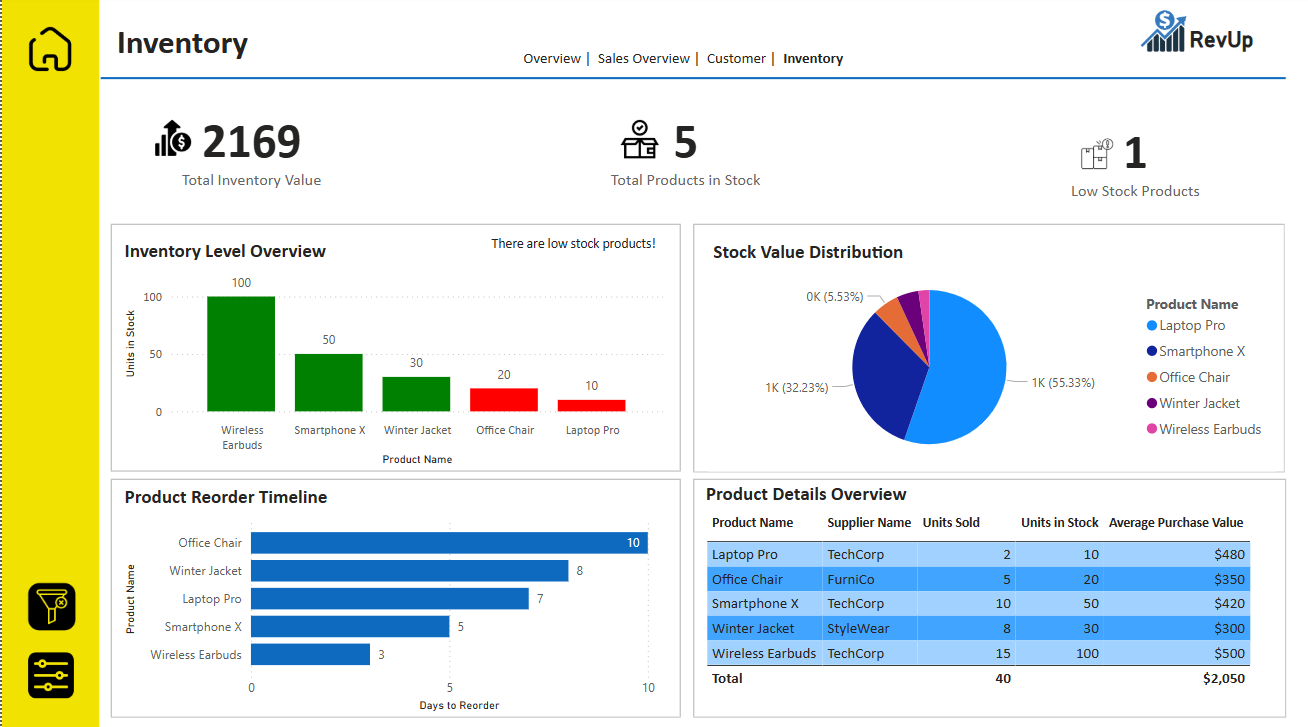

What the dashboard file says about the page in this screenshot:
{"tool":"powerbi","page":{"name":"Inventory","canvas":[1280,720],"ordinal":4},"visuals":[{"type":"shape","box":[0,0,95.4,720.2],"z":0},{"type":"image","box":[1004.3,0,264.1,70.9],"z":0,"group":"g1"},{"type":"textbox","box":[1157.2,25.7,99,45.2],"z":1000,"group":"g1"},{"type":"image","box":[129.9,121.2,95.2,55.4],"z":1000},{"type":"textbox","box":[107.4,22.5,176.6,58.9],"z":2000,"group":"g1"},{"type":"image","box":[19,559.3,58.9,79.7],"z":2000},{"type":"image","box":[20.9,23.7,52.9,58.4],"z":3000},{"type":"textbox","box":[505,47.3,340.9,34.8],"z":4000},{"type":"card","fields":{"Values":["Inventory Data.Total Inventory Value"]},"box":[129,93.5,232,110.8],"z":4000,"group":"g1"},{"type":"image","box":[18.1,638.6,58.4,54.3],"z":4125},{"type":"shape","box":[495.3,27.8,79.3,50.1],"z":4250},{"type":"shape","box":[574.6,27.8,101.6,50.1],"z":4500},{"type":"shape","box":[676.2,27.8,79.3,50.1],"z":6000},{"type":"card","fields":{"Values":["Inventory Data.Total Products in Stock"]},"box":[557.4,93.5,225.1,110.8],"z":6000,"group":"g1"},{"type":"group","id":"g1","title":"Visuals","box":[97,0,1171.5,706.8],"z":7000},{"type":"card","fields":{"Values":["Inventory Data.Low Stock product Count"]},"box":[992.8,103.9,232,110.8],"z":7000,"group":"g1"},{"type":"shape","box":[97,58.7,1159.2,45.2],"z":9500,"group":"g1"},{"type":"columnChart","title":"Inventory Level Overview ","fields":{"Y":["Sum(Inventory Data.Units in Stock)"],"Category":["Inventory Data.Product Name"]},"box":[115.8,239,536.8,226.8],"z":12000,"group":"g1"},{"type":"shape","box":[107.1,223.4,557.6,242.4],"z":13000,"group":"g1"},{"type":"shape","box":[676.9,224,578.8,243.5],"z":14000,"group":"g1"},{"type":"pieChart","title":"Stock Value Distribution","fields":{"Category":["Inventory Data.Product Name"],"Y":["Sum(Inventory Data.Selling Price)"]},"box":[690.8,239.3,555.1,226.8],"z":15000,"group":"g1"},{"type":"barChart","title":"Product Reorder Timeline","fields":{"Category":["Inventory Data.Product Name"],"Y":["Sum(Inventory Data.Days to Reorder)"]},"box":[115.8,479.7,548.9,226.8],"z":16000,"group":"g1"},{"type":"shape","box":[107.1,472.7,557.6,233.8],"z":17000,"group":"g1"},{"type":"pieChart","title":"Sales by Region","fields":{"Y":["Sum(Sales Data.Total Sales)"],"Category":["Customer Data.Region"]},"box":[690.8,477.2,567.7,226.8],"z":18000,"group":"g1"},{"type":"tableEx","title":"Product Details Overview","fields":{"Values":["Inventory Data.Product Name","Inventory Data.Supplier Name","Sum(Sales Data.Units Sold)","Inventory Data.Units in Stock","Sum(Customer Data.Average Purchase Value)"]},"box":[684,477.2,567.7,226.8],"z":18500,"group":"g1"},{"type":"image","box":[142.3,117.4,51.4,45.2],"z":18750,"group":"g1"},{"type":"image","box":[596,117.4,57.5,47.7],"z":18875,"group":"g1"},{"type":"image","box":[1044.7,134.5,53.8,41.6],"z":18937,"group":"g1"},{"type":"card","fields":{"Values":["Inventory Data.LowStockMessage"]},"box":[424.3,223.4,270.1,41.6],"z":18968,"group":"g1"},{"type":"shape","box":[676.9,473,580.2,233.7],"z":19000,"group":"g1"}]}

Visuals, with their boxes in screenshot pixels (x1, y1, x2, y2), scaled from the page's 1280x720 canvas onto the 1308x727 screenshot:
shape: Rect(0, 0, 97, 726)
image: Rect(1026, 0, 1296, 72)
textbox: Rect(1183, 26, 1284, 72)
image: Rect(133, 122, 230, 178)
textbox: Rect(110, 23, 290, 82)
image: Rect(19, 565, 80, 645)
image: Rect(21, 24, 75, 83)
textbox: Rect(516, 48, 864, 83)
card - Inventory Data.Total Inventory Value: Rect(132, 94, 369, 206)
image: Rect(18, 645, 78, 700)
shape: Rect(506, 28, 587, 79)
shape: Rect(587, 28, 691, 79)
shape: Rect(691, 28, 772, 79)
card - Inventory Data.Total Products in Stock: Rect(570, 94, 800, 206)
"Visuals" group: Rect(99, 0, 1296, 714)
card - Inventory Data.Low Stock product Count: Rect(1015, 105, 1252, 217)
shape: Rect(99, 59, 1284, 105)
"Inventory Level Overview " columnChart: Rect(118, 241, 667, 470)
shape: Rect(109, 226, 679, 470)
shape: Rect(692, 226, 1283, 472)
"Stock Value Distribution" pieChart: Rect(706, 242, 1273, 471)
"Product Reorder Timeline" barChart: Rect(118, 484, 679, 713)
shape: Rect(109, 477, 679, 713)
"Sales by Region" pieChart: Rect(706, 482, 1286, 711)
"Product Details Overview" tableEx: Rect(699, 482, 1279, 711)
image: Rect(145, 119, 198, 164)
image: Rect(609, 119, 668, 167)
image: Rect(1068, 136, 1123, 178)
card - Inventory Data.LowStockMessage: Rect(434, 226, 710, 268)
shape: Rect(692, 478, 1285, 714)
